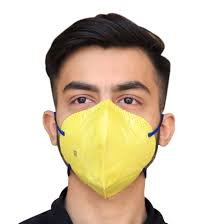with-mask: (46, 13, 181, 199)
